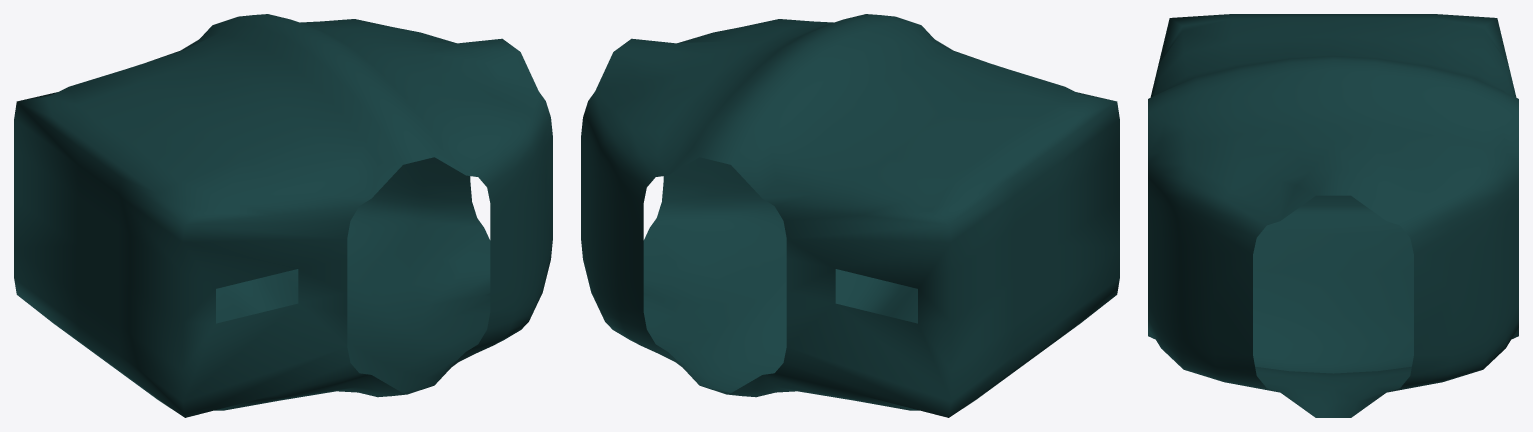
File: OutsideBedroomHigh.fbx
The picture shows the model from 3 angles, left to right: view 1: azimuth 30°, elevation 25°; view 2: azimuth 150°, elevation 25°; view 3: azimuth 270°, elevation 25°; orthographic projection. The views are drawn at different scales.
Parts seen in each view (by area): view 1: OutsideBedroomHigh; view 2: OutsideBedroomHigh; view 3: OutsideBedroomHigh.
Part boxes in pixels (x1,y1,x2,y2): OutsideBedroomHigh: [14, 14, 552, 417]; OutsideBedroomHigh: [581, 14, 1119, 417]; OutsideBedroomHigh: [1148, 14, 1518, 417].
Bounding box in the file's own units: 690 × 551 × 515.
